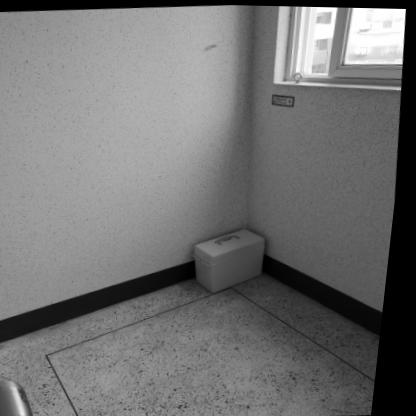DDL: (193, 223, 271, 293)
